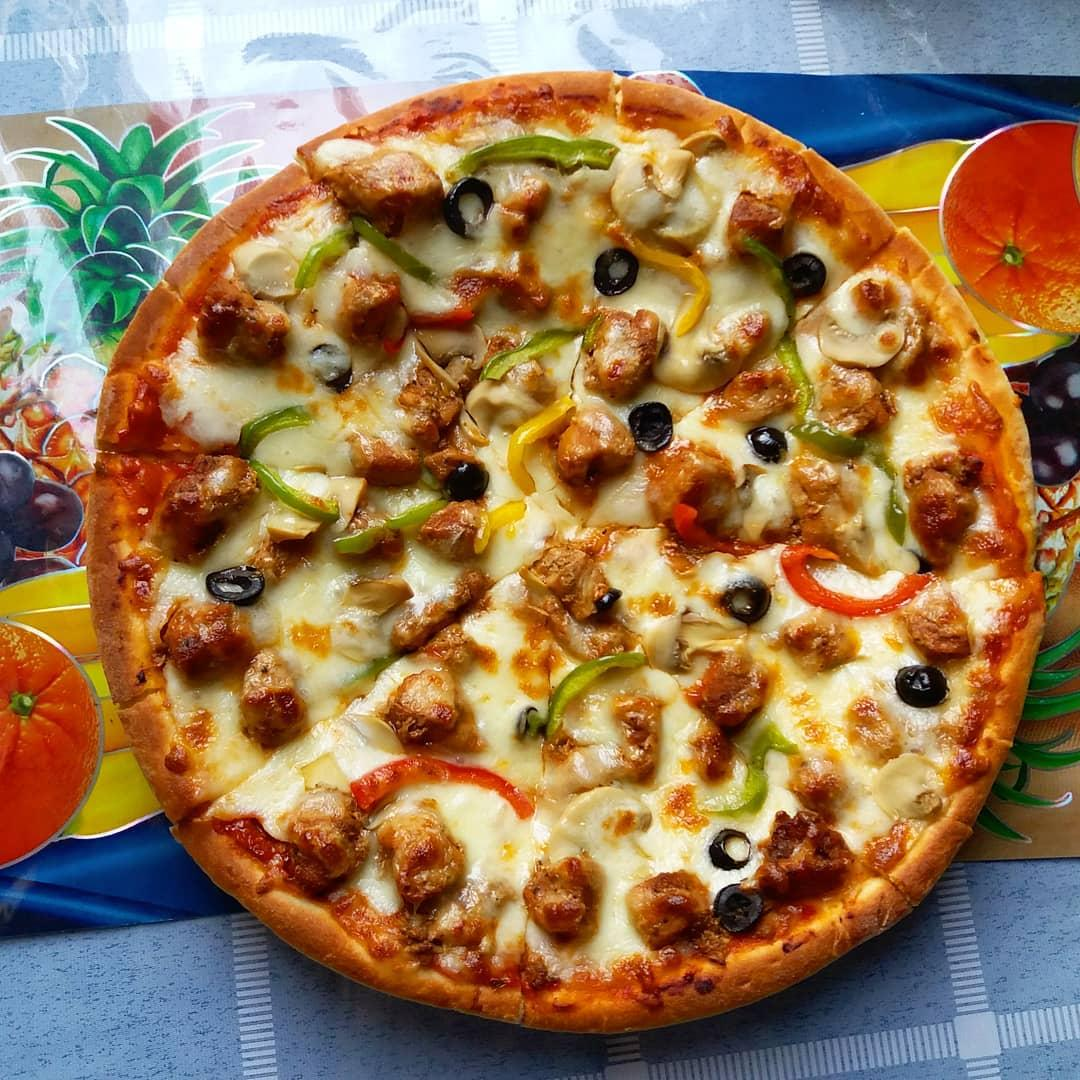Cheese: (293, 559, 454, 642), (785, 669, 900, 744), (465, 607, 529, 734), (505, 185, 577, 274)
Chicken: (162, 453, 253, 550), (315, 141, 432, 208), (385, 822, 470, 902), (905, 453, 981, 542), (290, 797, 370, 881), (685, 648, 771, 725), (756, 820, 846, 891), (709, 369, 798, 434), (652, 448, 728, 521), (234, 650, 304, 729), (729, 187, 809, 254), (171, 600, 239, 677), (625, 870, 696, 943), (564, 410, 636, 481), (537, 549, 612, 617), (212, 290, 282, 362), (595, 313, 658, 391), (817, 373, 893, 432), (524, 863, 594, 927), (899, 590, 971, 650), (395, 670, 461, 733), (617, 697, 660, 788), (343, 276, 398, 343), (403, 363, 460, 427), (350, 433, 419, 483), (789, 755, 844, 814), (785, 612, 852, 660), (430, 497, 486, 550), (714, 306, 770, 350)
Mushroom: (545, 786, 653, 863), (817, 315, 910, 371)
Olives: (445, 179, 494, 236), (711, 883, 763, 936), (208, 562, 265, 605), (717, 576, 770, 622), (596, 244, 638, 301), (630, 402, 673, 453), (307, 345, 356, 389), (899, 666, 947, 707), (782, 252, 826, 295), (442, 461, 490, 498), (708, 827, 752, 864), (748, 427, 789, 462), (591, 587, 621, 617)
Peppers: (348, 751, 540, 825), (780, 542, 935, 615), (614, 222, 714, 333), (537, 642, 649, 741), (449, 133, 620, 178), (702, 729, 791, 814), (353, 206, 439, 285), (479, 318, 581, 383), (503, 395, 568, 495), (670, 504, 777, 560), (329, 500, 429, 559), (743, 236, 797, 345), (254, 454, 336, 523), (871, 443, 918, 549), (287, 219, 352, 291), (235, 400, 319, 452), (795, 419, 866, 460), (784, 342, 812, 434), (412, 300, 478, 334), (492, 501, 527, 535)
Pizza: (87, 77, 1042, 1030)
